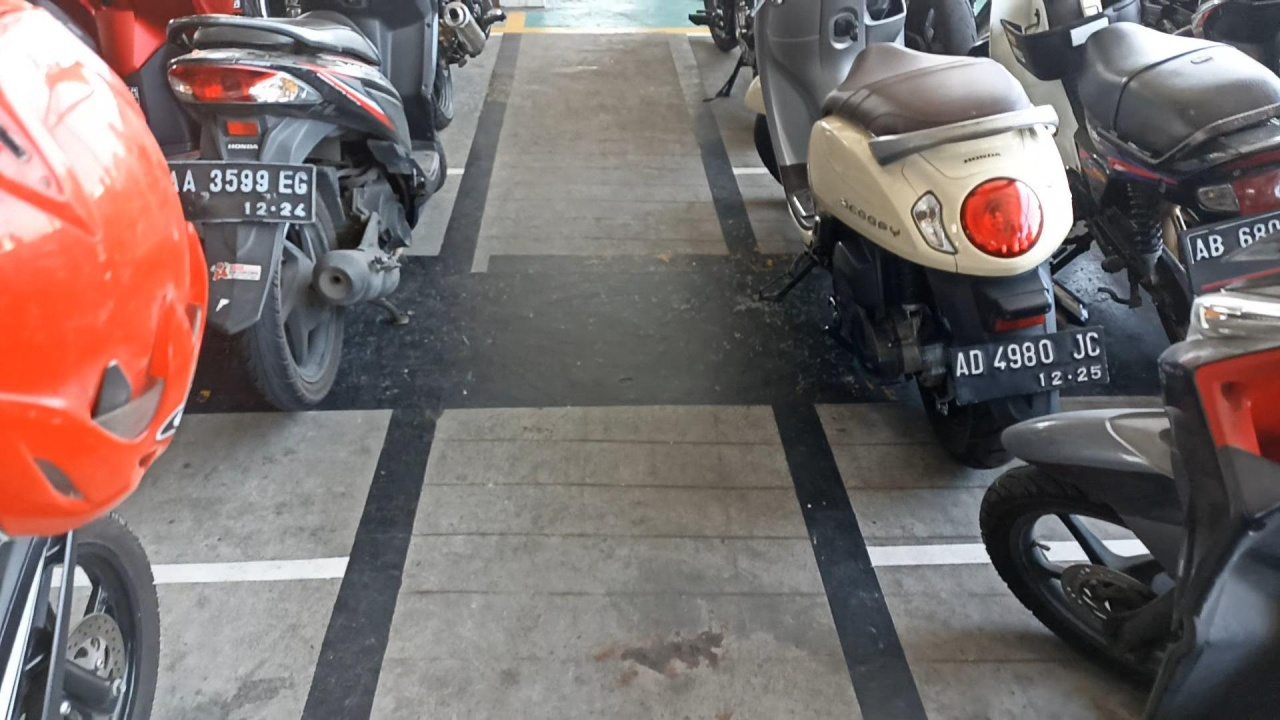plate: (951, 326, 1109, 404), (166, 163, 315, 222)
